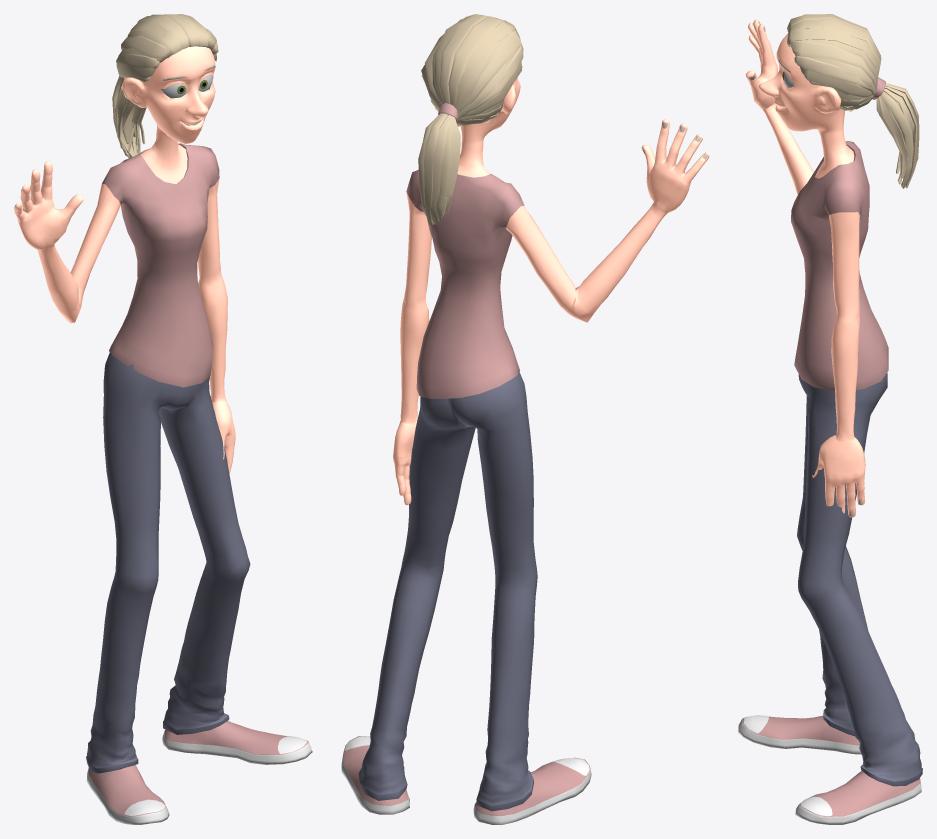
The model's file is female_hello (1).fbx.
The picture shows the model from 3 angles, left to right: view 1: azimuth 30°, elevation 25°; view 2: azimuth 150°, elevation 25°; view 3: azimuth 270°, elevation 25°; orthographic projection. The views are drawn at different scales.
Parts seen in each view (by area): view 1: eyeBall1Lf; view 2: eyeBall1Lf; view 3: eyeBall1Lf.
Part boxes in pixels (box(x1,y1,x2,y2)): eyeBall1Lf: box(14, 14, 312, 824); eyeBall1Lf: box(341, 14, 709, 824); eyeBall1Lf: box(738, 14, 922, 824).
Size of the model in its own units: 3.87 by 8.66 by 1.94.
